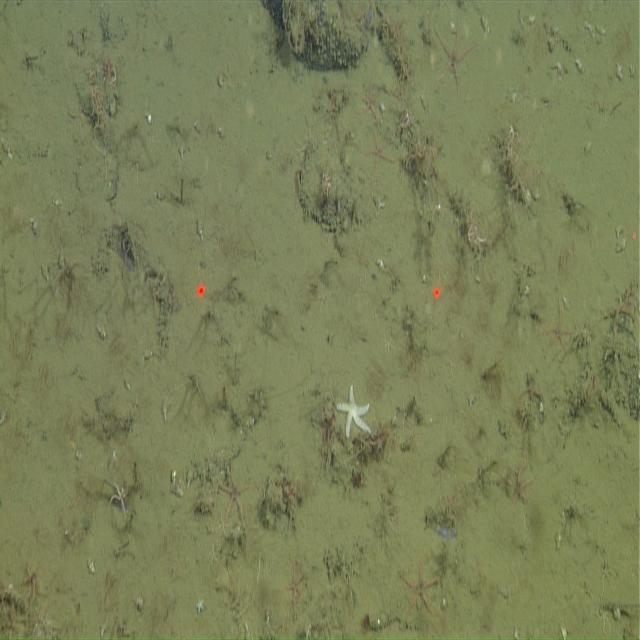Brittle Star: (430, 16, 480, 102), (212, 455, 259, 538), (397, 551, 442, 624), (274, 549, 311, 616)
Not Brittle Star: (334, 380, 374, 442)
